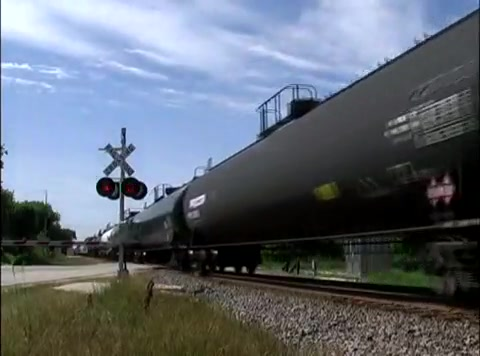train: (84, 1, 480, 297)
